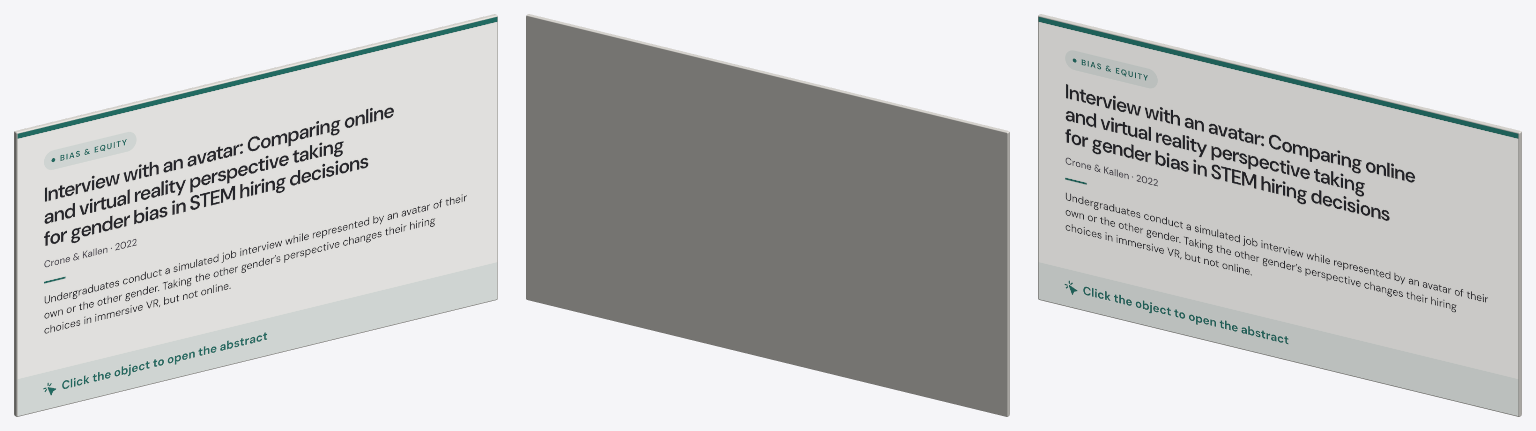
The model's file is plaque-crone-2022.glb.
3 views of the same model, side by side, from view 1: azimuth 30°, elevation 25°; view 2: azimuth 150°, elevation 25°; view 3: azimuth 330°, elevation 25° (orthographic).
Visible parts, largest first — view 1: plaque-crone-2022; view 2: plaque-crone-2022; view 3: plaque-crone-2022.
Boxes of the visible parts, x1,y1,x2,y2 form: plaque-crone-2022: (14,14,497,416); plaque-crone-2022: (526,14,1009,416); plaque-crone-2022: (1038,14,1521,416).
Bounding box in the file's own units: 0.643 × 0.363 × 0.006.
Materials: 2 (1 with a texture image).
